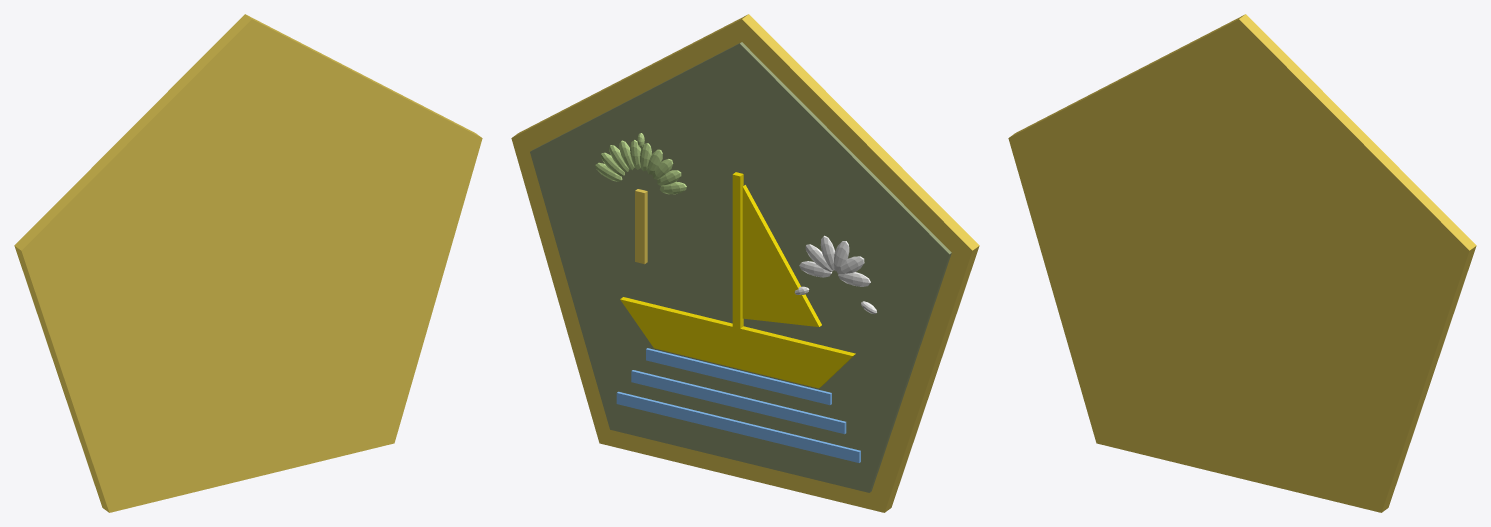
Rendered from n10-lambang-unri.glb.
3 views of the same model, side by side, from view 1: azimuth 30°, elevation 25°; view 2: azimuth 150°, elevation 25°; view 3: azimuth 330°, elevation 25° (orthographic).
Parts seen in each view (by area): view 1: EX_unri:lambang-emas; view 2: EX_unri:lambang-hijau, EX_unri:lambang-emas, EX_unri:lambang-kuning, EX_unri:lambang-biru, EX_unri:lambang-daun, EX_unri:lambang-putih; view 3: EX_unri:lambang-emas.
Boxes of the visible parts, left/top/right/bottom form: EX_unri:lambang-emas: left=14, top=14, right=482, bottom=512; EX_unri:lambang-hijau: left=530, top=42, right=951, bottom=492; EX_unri:lambang-emas: left=511, top=14, right=979, bottom=512; EX_unri:lambang-kuning: left=620, top=172, right=855, bottom=388; EX_unri:lambang-biru: left=616, top=348, right=860, bottom=462; EX_unri:lambang-daun: left=595, top=133, right=686, bottom=194; EX_unri:lambang-putih: left=794, top=235, right=876, bottom=314; EX_unri:lambang-emas: left=1008, top=14, right=1476, bottom=512.
Size of the model in its own units: 0.9511 by 0.9045 by 0.045.
